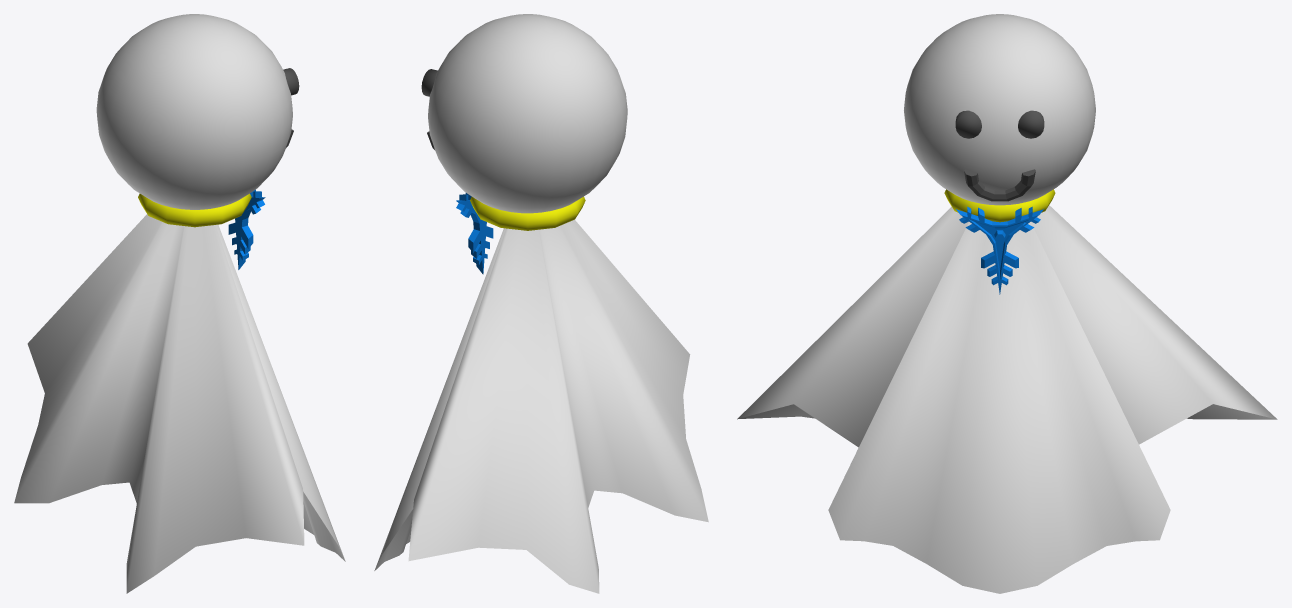
Rendered from teruteru.fbx.
3 views of the same model, side by side, from view 1: azimuth 30°, elevation 25°; view 2: azimuth 150°, elevation 25°; view 3: azimuth 270°, elevation 25° (orthographic). The views are drawn at different scales.
Parts seen in each view (by area): view 1: Cone, Sphere, Torus, Cylinder.001; view 2: Cone, Sphere, Torus, Cylinder.001; view 3: Cone, Sphere, Cylinder.001, Torus, Torus.001.
Boxes of the visible parts, bbox=[...] form: Cone: bbox=[14, 214, 345, 593]; Sphere: bbox=[96, 14, 292, 209]; Torus: bbox=[138, 193, 251, 227]; Cylinder.001: bbox=[228, 189, 265, 269]; Cone: bbox=[374, 219, 708, 593]; Sphere: bbox=[428, 14, 627, 213]; Torus: bbox=[470, 196, 585, 230]; Cylinder.001: bbox=[456, 193, 493, 274]; Cone: bbox=[737, 205, 1277, 593]; Sphere: bbox=[904, 14, 1095, 205]; Cylinder.001: bbox=[956, 206, 1043, 294]; Torus: bbox=[944, 189, 1055, 222]; Torus.001: bbox=[964, 169, 1035, 201].
Bounding box in the file's own units: 137 × 298 × 281.
